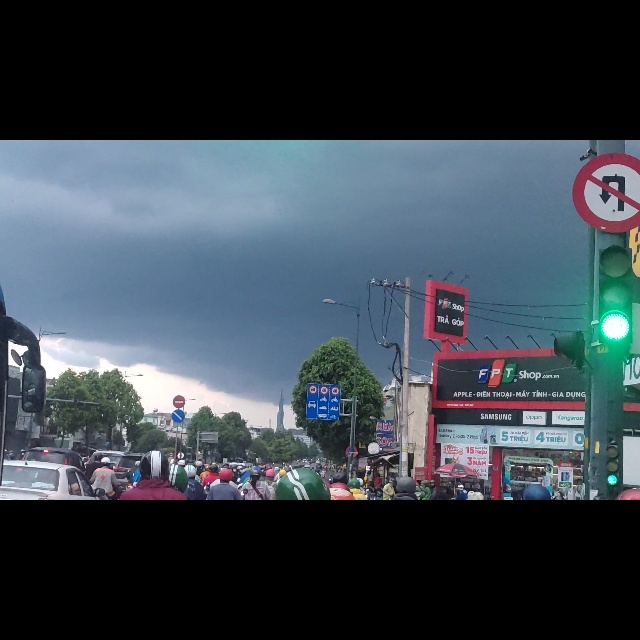bien_chi_dan: (572, 23, 640, 167), (306, 432, 341, 498), (171, 478, 185, 503), (173, 453, 186, 477)
